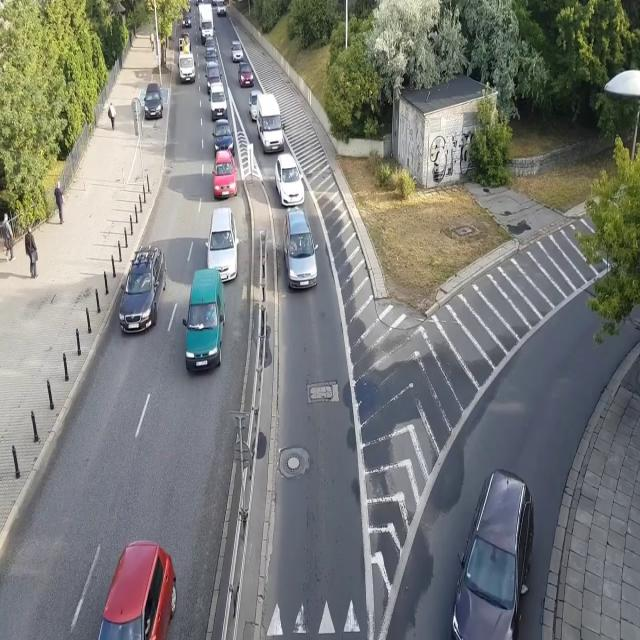car: (450, 465, 536, 640), (98, 539, 178, 640), (117, 243, 168, 338), (205, 207, 240, 282), (274, 154, 304, 208), (212, 150, 237, 200), (213, 119, 234, 156), (143, 83, 163, 121), (249, 90, 263, 123), (238, 62, 255, 88), (231, 40, 244, 64), (204, 49, 218, 70), (205, 37, 218, 52), (182, 12, 192, 28)
truck: (177, 34, 196, 83), (199, 3, 215, 45)
van: (182, 268, 226, 371), (282, 208, 319, 292), (256, 93, 285, 154), (216, 0, 226, 17)
